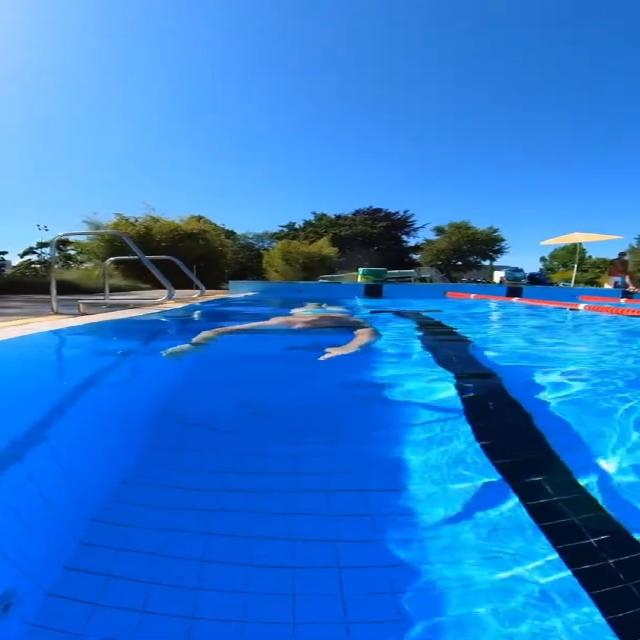Swimming: (168, 303, 397, 366)
